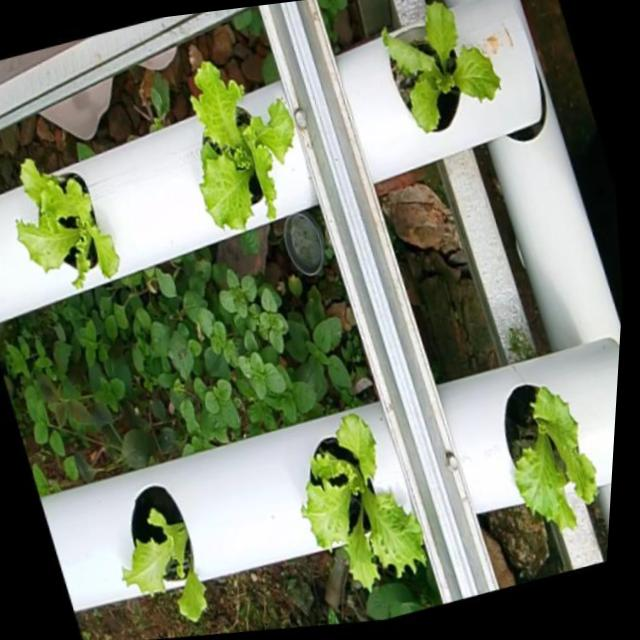Baby: (303, 416, 430, 594), (194, 66, 297, 233), (383, 7, 503, 138), (506, 388, 598, 533), (22, 161, 123, 290), (125, 483, 208, 618)
